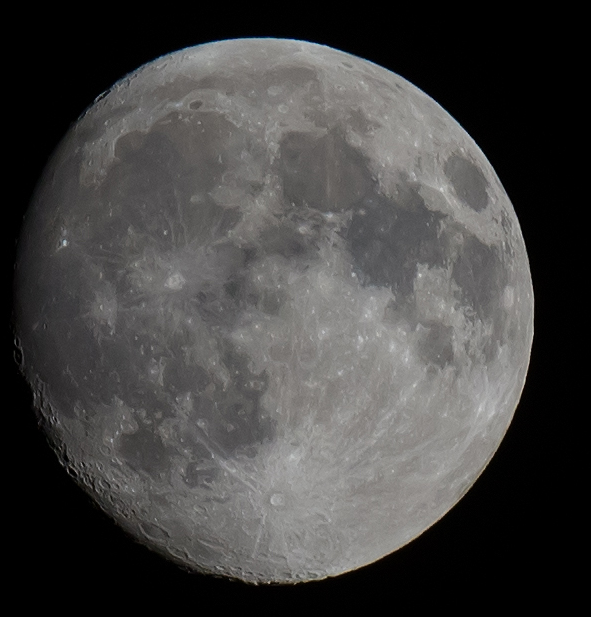crater: (184, 386, 390, 545), (136, 224, 245, 348), (75, 279, 130, 342), (9, 330, 46, 373), (137, 516, 176, 543), (173, 93, 206, 118), (90, 437, 119, 457), (410, 260, 430, 287), (271, 99, 294, 119), (267, 280, 291, 295), (344, 269, 361, 283), (83, 154, 97, 171)
